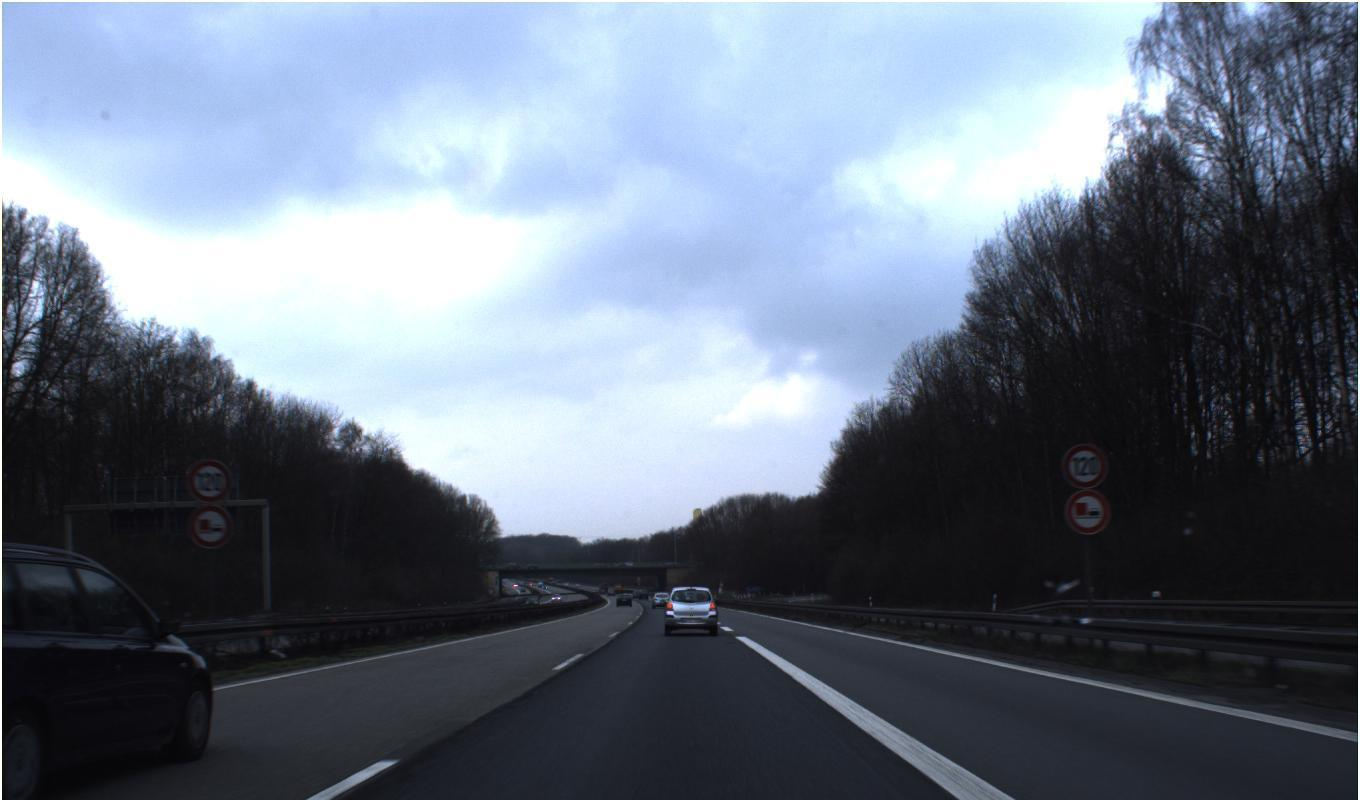10: (1064, 488, 1112, 536), (185, 503, 232, 550)
speed limit 120 (prohibitory): (1062, 442, 1109, 489), (186, 458, 232, 504)
